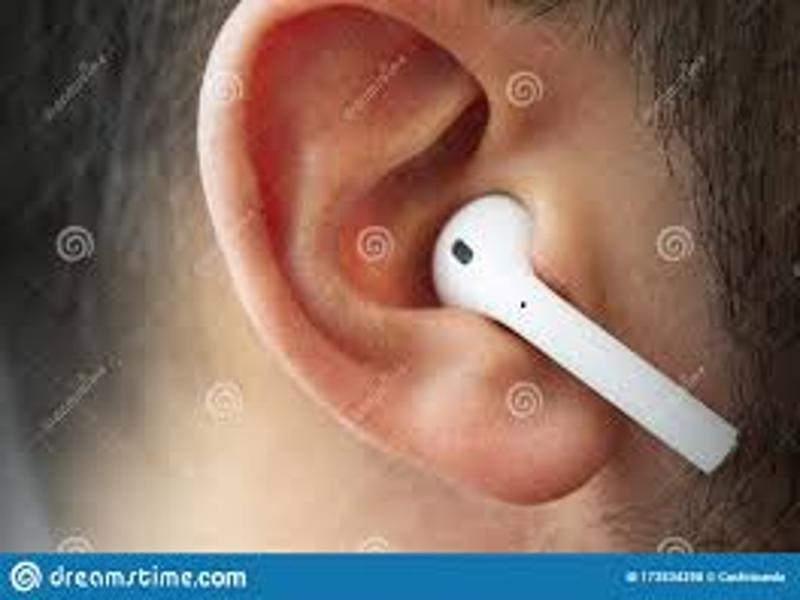headphone: (424, 182, 740, 468)
